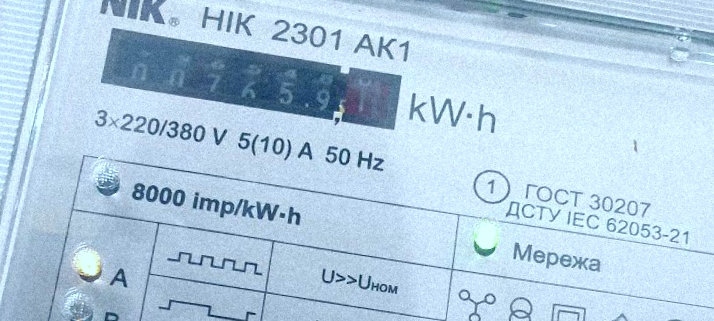0: (165, 63, 188, 91), (128, 57, 149, 85)
1: (352, 83, 371, 117)
5: (273, 77, 299, 107)
6: (238, 75, 260, 101)
7: (201, 69, 224, 97)
9: (310, 84, 332, 113)
screen: (87, 13, 415, 147)
